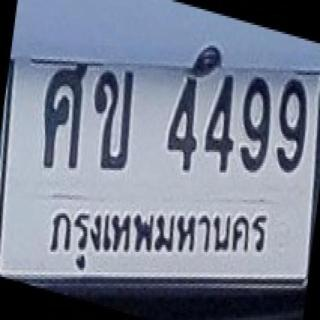A02: (92, 69, 138, 173)
A38: (38, 60, 91, 172)
N04: (162, 70, 201, 177), (201, 68, 237, 176)
N09: (272, 74, 310, 177), (236, 73, 273, 174)
P04: (44, 204, 272, 273)
